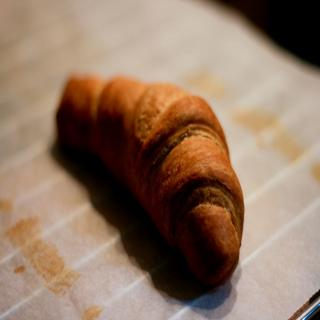Croissant: (56, 97, 241, 292)
